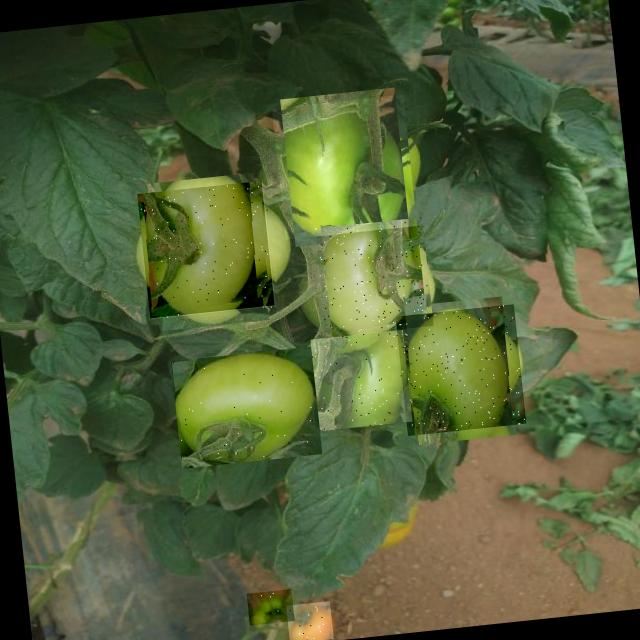Ripe Tomato: (285, 601, 333, 640)
Unripe Tomato: (272, 94, 416, 239), (137, 180, 278, 322), (170, 346, 322, 468), (395, 304, 526, 436), (314, 216, 434, 336), (310, 330, 412, 430), (246, 588, 294, 626)
